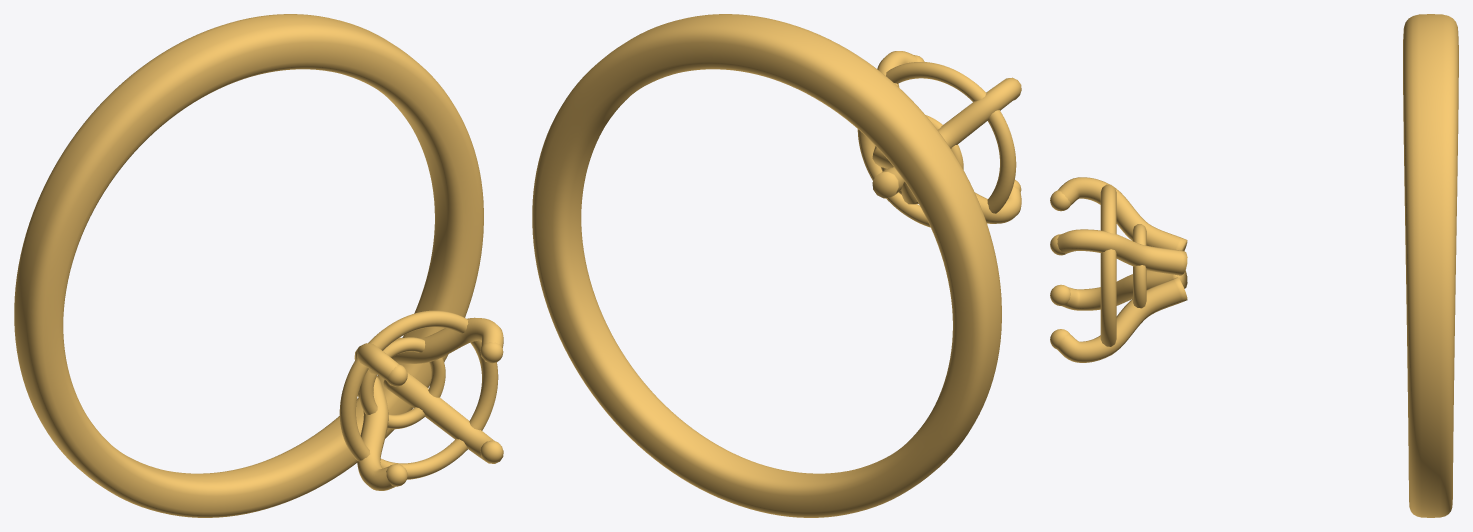
File: Ring_Solitaire.fbx
3 renders of one model, left to right at view 1: azimuth 30°, elevation 25°; view 2: azimuth 150°, elevation 25°; view 3: azimuth 270°, elevation 25°, orthographic. The views are drawn at different scales.
Visible parts, largest first — view 1: Band, Head_Center; view 2: Band, Head_Center; view 3: Band, Head_Center.
Boxes of the visible parts, bbox=[...] form: Band: bbox=[14, 14, 483, 517]; Head_Center: bbox=[339, 310, 503, 490]; Band: bbox=[532, 14, 1001, 517]; Head_Center: bbox=[857, 51, 1021, 227]; Band: bbox=[1403, 14, 1458, 517]; Head_Center: bbox=[1050, 177, 1187, 362].
Size of the model in its own units: 0.0205 by 0.0207 by 0.0168.
